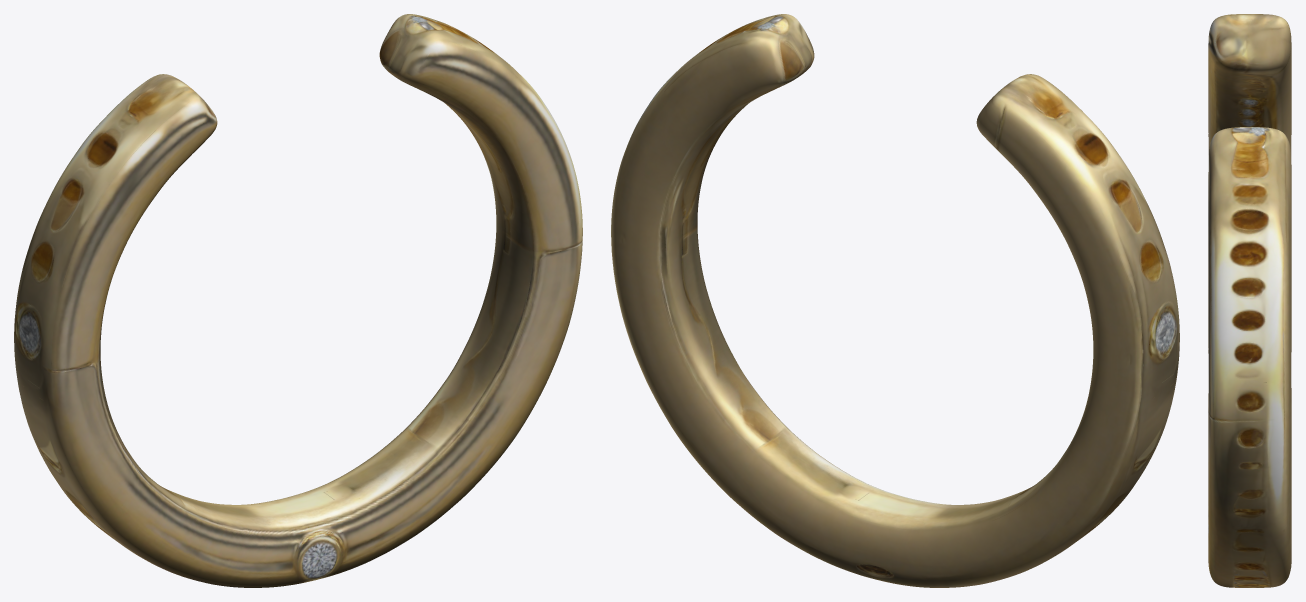
File: nosering-golden.glb
3 renders of one model, left to right at view 1: azimuth 30°, elevation 25°; view 2: azimuth 150°, elevation 25°; view 3: azimuth 270°, elevation 25°, orthographic. The views are drawn at different scales.
Parts seen in each view (by area): view 1: Mesh_0; view 2: Mesh_0; view 3: Mesh_0.
Boxes of the visible parts, x1=… form: Mesh_0: x1=14, y1=14, x2=582, y2=587; Mesh_0: x1=611, y1=14, x2=1179, y2=587; Mesh_0: x1=1208, y1=14, x2=1291, y2=587.
Bounding box in the file's own units: 2 × 1.83 × 0.2834.
Materials: 1 (1 with a texture image).
